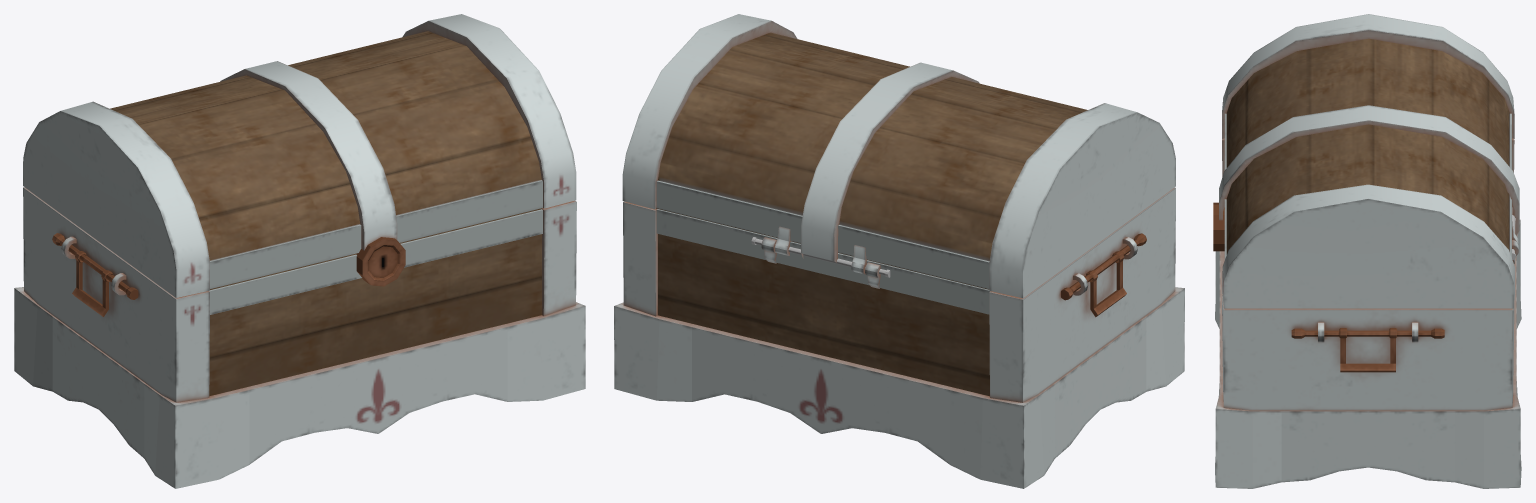
Rendered from chest seperated.fbx.
The picture shows the model from 3 angles, left to right: view 1: azimuth 30°, elevation 25°; view 2: azimuth 150°, elevation 25°; view 3: azimuth 270°, elevation 25°; orthographic projection. The views are drawn at different scales.
Visible parts, largest first — view 1: Cross.003, Cross.004; view 2: Cross.003, Cross.004; view 3: Cross.004, Cross.003.
Part boxes in pixels (x1,y1,x2,y2): Cross.003: (14,187,585,488); Cross.004: (23,14,576,297); Cross.003: (614,187,1184,488); Cross.004: (622,14,1175,298); Cross.004: (1213,14,1519,308); Cross.003: (1213,138,1521,488).
Size of the model in its own units: 191 by 130 by 127.
1 material, 1 textured.
